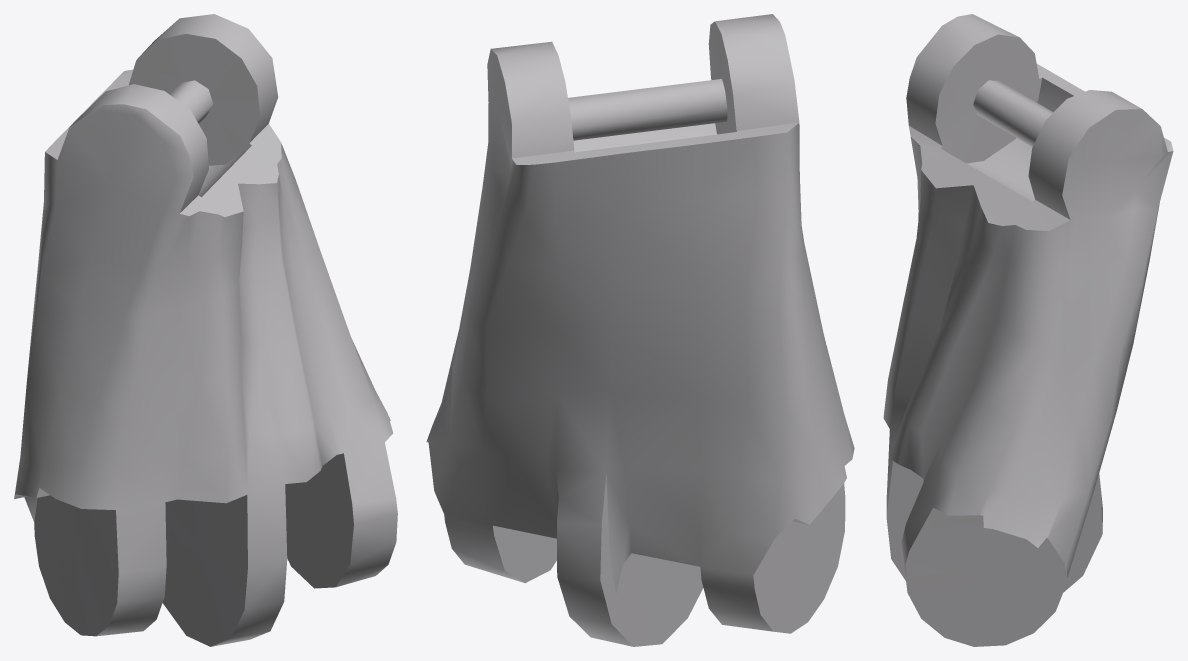
The model's file is Right_Thumb_MtCar.dae.
The picture shows the model from 3 angles, left to right: view 1: azimuth 30°, elevation 25°; view 2: azimuth 150°, elevation 25°; view 3: azimuth 270°, elevation 25°; orthographic projection. The views are drawn at different scales.
Visible parts, largest first — view 1: Mesh; view 2: Mesh; view 3: Mesh.
Part boxes in pixels (x1,y1,x2,y2): Mesh: (14, 14, 397, 646); Mesh: (426, 14, 854, 646); Mesh: (883, 14, 1173, 646).
Size of the model in its own units: 0.0295 by 0.045 by 0.0216.
1 material, 1 textured.
